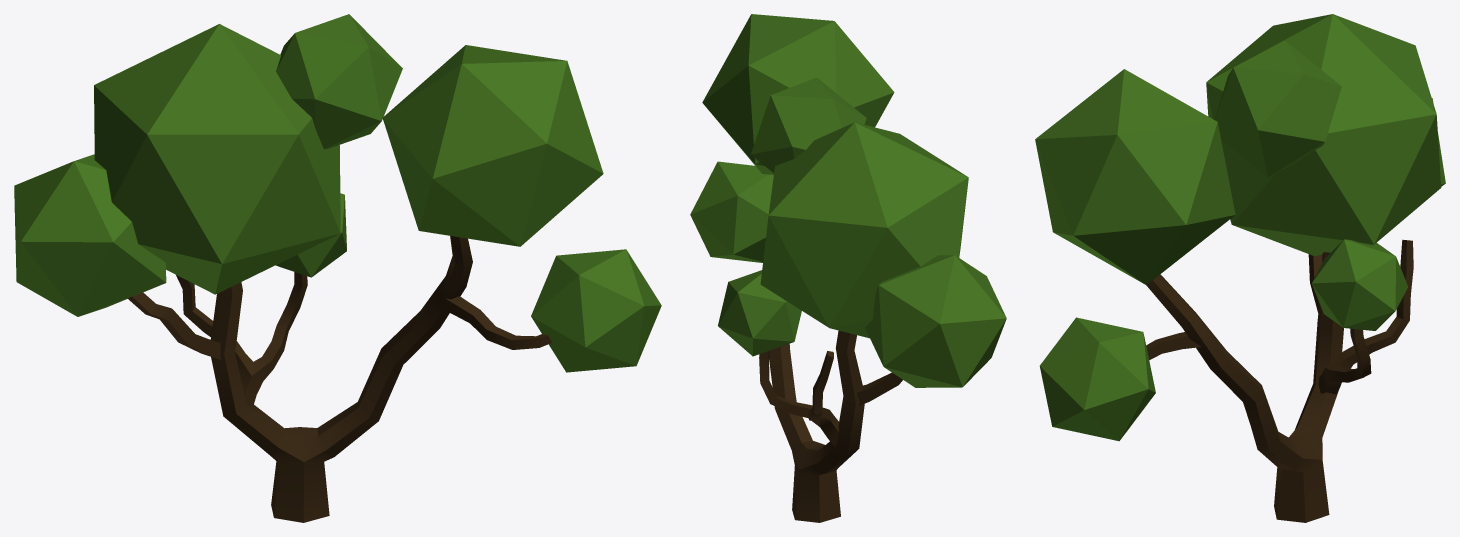
The model's file is tree2.fbx.
The picture shows the model from 3 angles, left to right: view 1: azimuth 30°, elevation 25°; view 2: azimuth 150°, elevation 25°; view 3: azimuth 270°, elevation 25°; orthographic projection. The views are drawn at different scales.
Parts seen in each view (by area): view 1: 樹_2; view 2: 樹_2; view 3: 樹_2.
Boxes of the visible parts, box(x1,y1,x2,y2) form: 樹_2: box(14, 14, 661, 522); 樹_2: box(690, 14, 1006, 522); 樹_2: box(1035, 14, 1445, 522).
Bounding box in the file's own units: 543 × 515 × 403.
